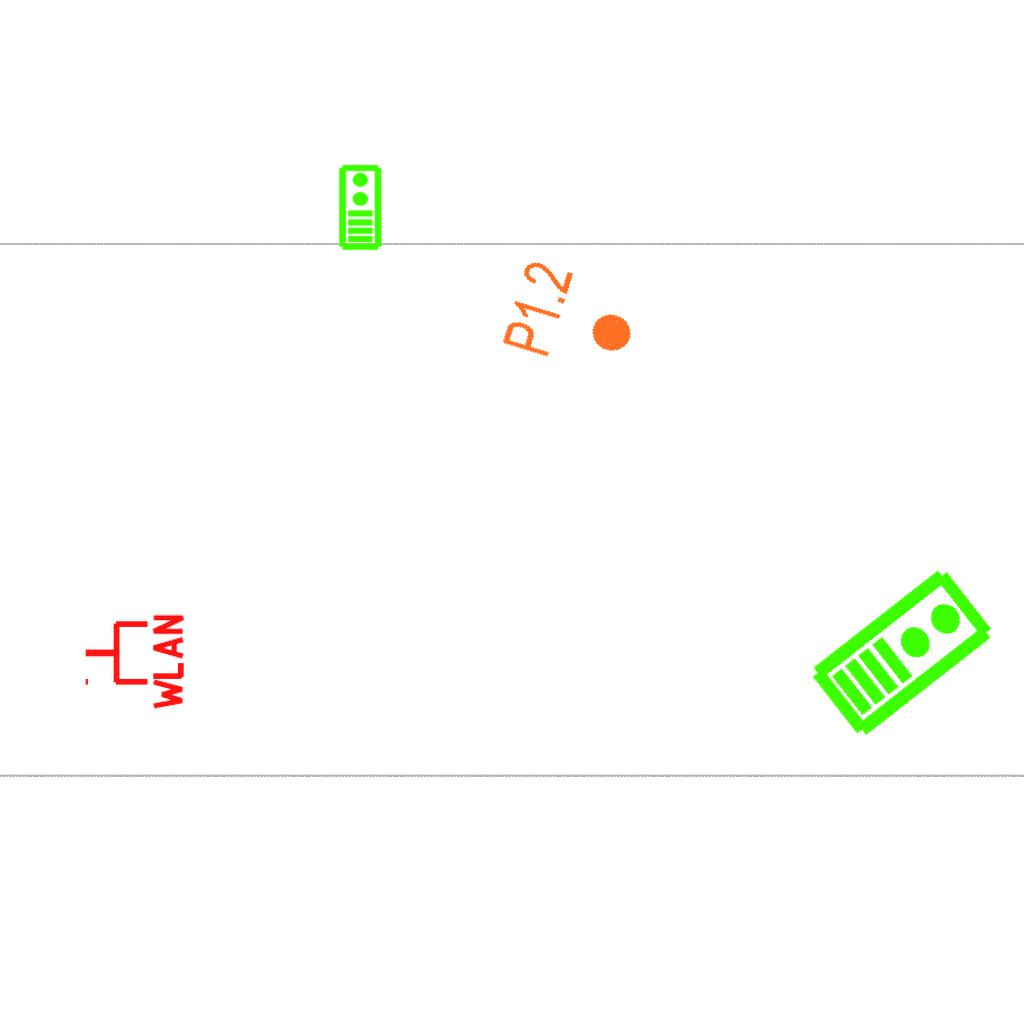Downlight_LED_Einbauleuchten_Flur: (497, 255, 648, 383)
Gegensprechanlage_mit_Video: (802, 559, 1001, 743), (336, 163, 383, 251)
WLAN: (81, 610, 186, 714)
